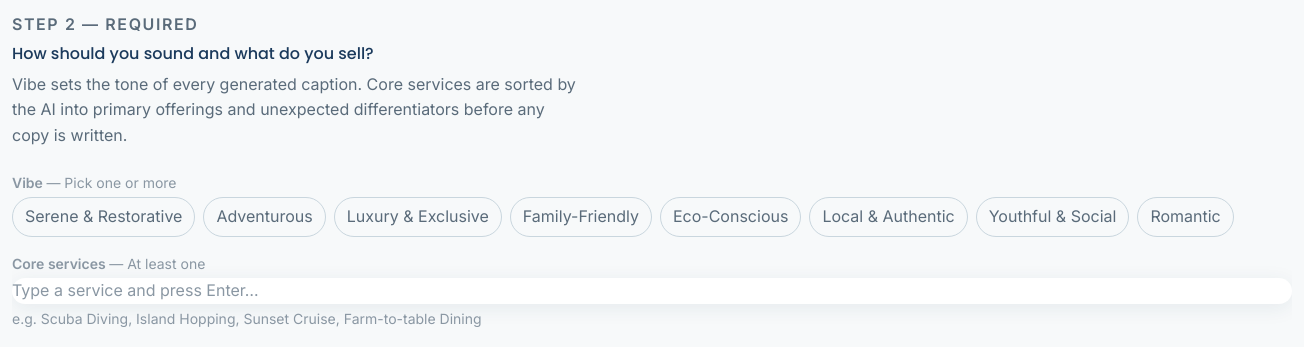
Scenario: BrandIdentityStep — vibe/service gate and tag add/remove › adds a service tag on Enter and clears the input
Type "Scuba Diving" into the field with placeholder "Type a service and press Enter…" at [652, 291], box [12,278,1292,304]
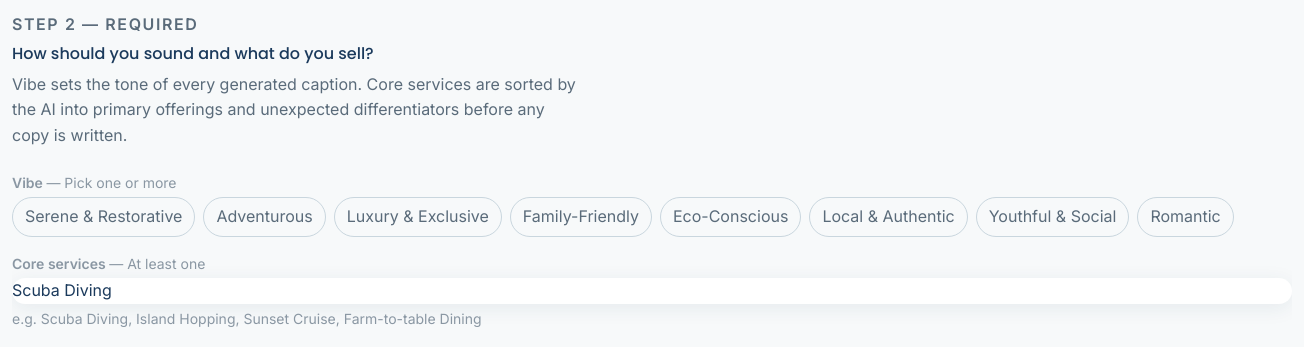
Press Enter in the field with placeholder "Type a service and press Enter…", box [12,278,1292,304]
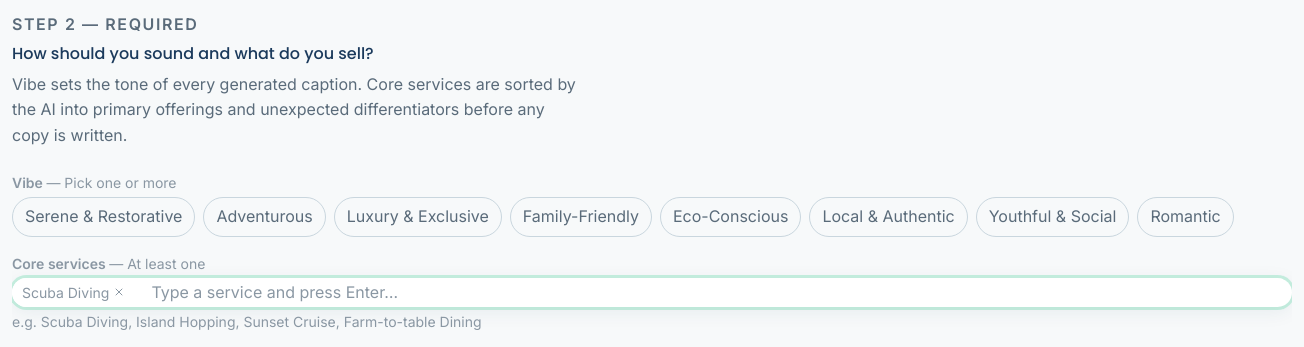
Expected: the text "Scuba Diving" is shown, [12,278,135,307]
Expected: the field with placeholder "Type a service and press Enter…" is empty, [151,280,1292,305]
